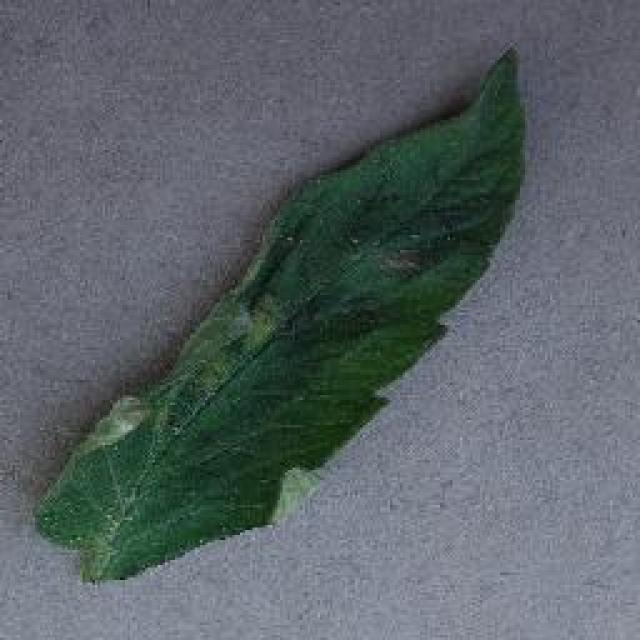green waste: (16, 0, 590, 583)
